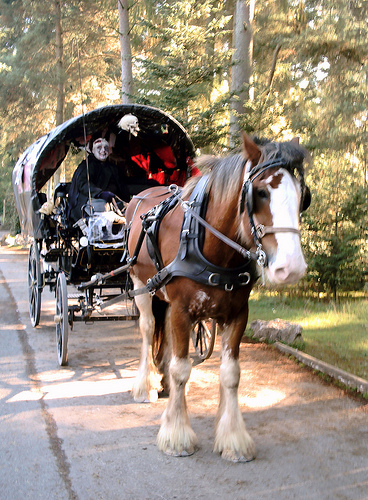horse: (125, 134, 311, 462)
